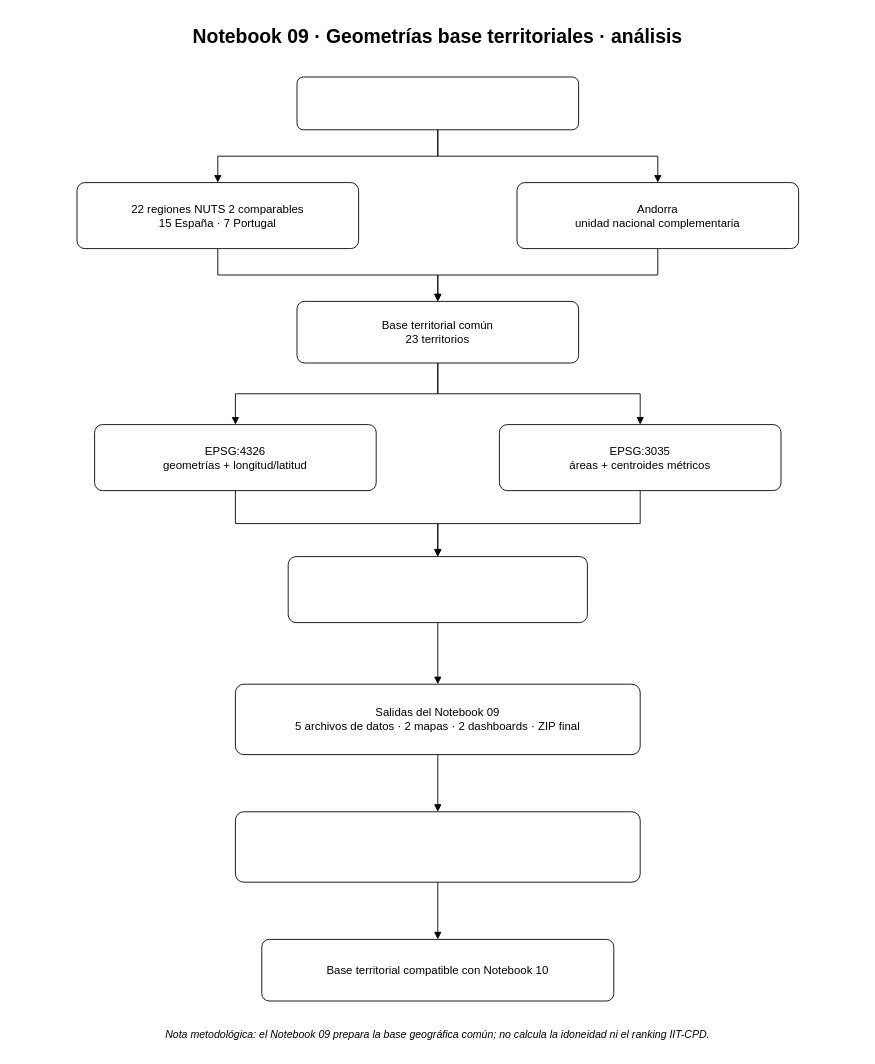
Image size: 875x1064. Some labels were removed from this diagram. Here are the shapes that lost their labels. From the top down, the centre of each, then its label:
At [437,103]: "23 territorios integrados".
At [437,589]: "Atributos territoriales codigo_geo · area_km2 · centroides".
At [437,846]: "Validación final 23 territorios · 22 NUTS 2 · 1 Andorra · 0 duplicados".
